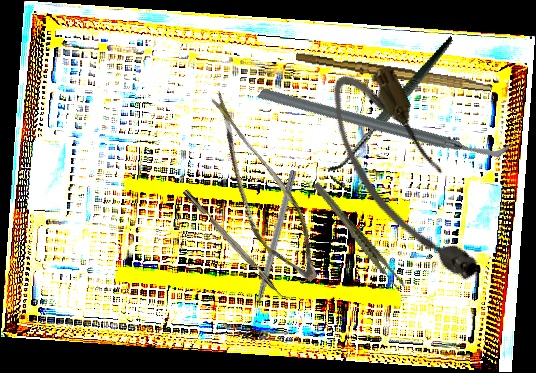Cannula: (314, 54, 494, 304)
Chopper: (255, 1, 515, 242), (182, 184, 295, 306)
Hook Surgical: (298, 35, 489, 192), (248, 168, 298, 323)
Micro Scissor: (168, 88, 349, 291)
Scalpel Handle: (294, 51, 494, 93)
Tissue Forceps: (311, 169, 407, 303)
